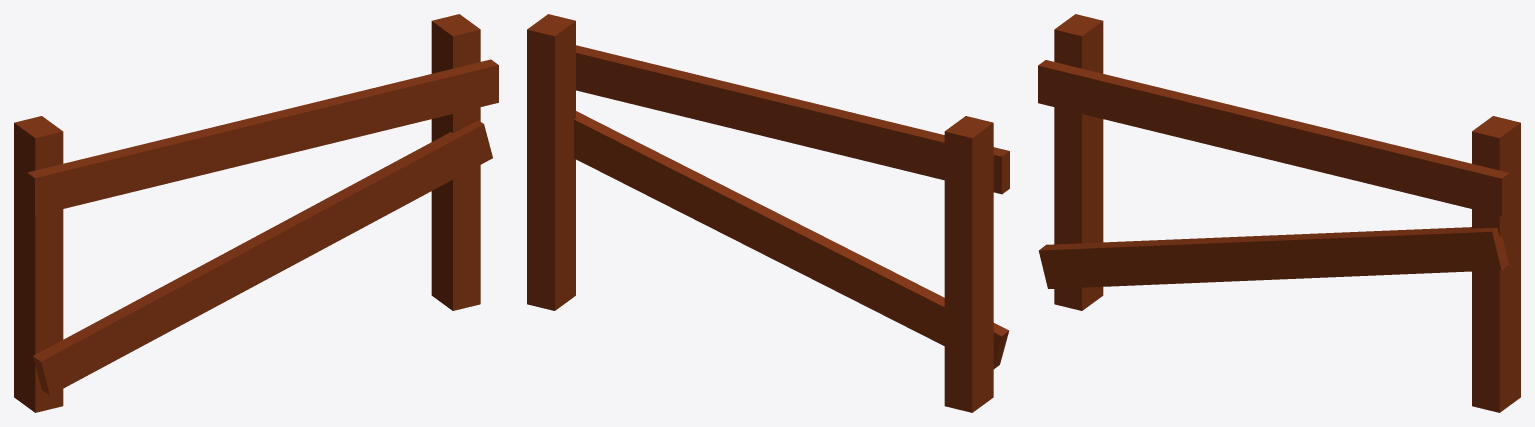
The model's file is fence1.fbx.
The picture shows the model from 3 angles, left to right: view 1: azimuth 30°, elevation 25°; view 2: azimuth 150°, elevation 25°; view 3: azimuth 330°, elevation 25°; orthographic projection.
Parts seen in each view (by area): view 1: Cube; view 2: Cube; view 3: Cube.
Part boxes in pixels (left/top/right/bottom): Cube: left=14, top=14, right=498, bottom=412; Cube: left=527, top=14, right=1009, bottom=412; Cube: left=1038, top=14, right=1520, bottom=412.
Size of the model in its own units: 332 by 188 by 39.64.
